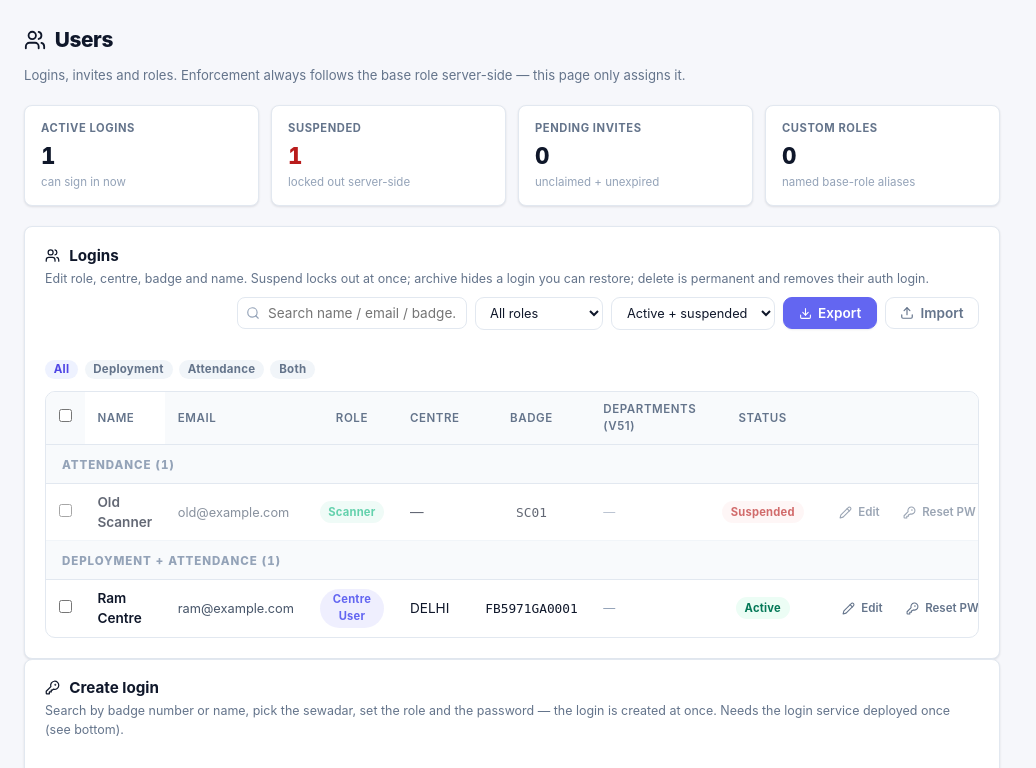
Test: UsersPage — phase group filter › filters to the attendance group and hides the headers
The width and height of the screenshot is (1036, 768).
Check: the text "Active logins" is shown, box [41,121,135,135]
Click the button "Attendance". click: [222, 370]
box: [179,360,264,379]
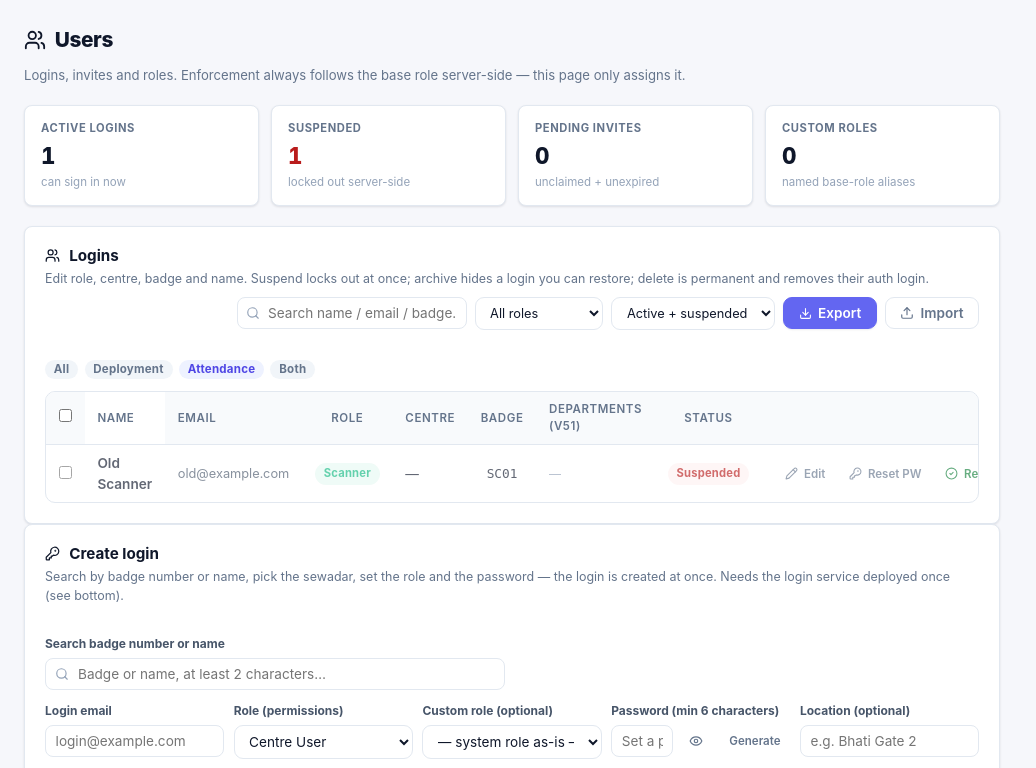
Check: the text "Old Scanner" is shown, box [85,445,165,502]
Check: the text "Ram Centre" is gone
Check: the text "Attendance (1)" is gone
